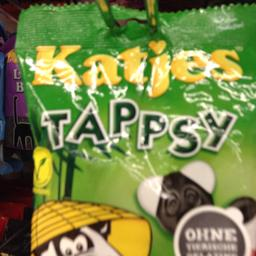candy: (15, 6, 255, 252)
